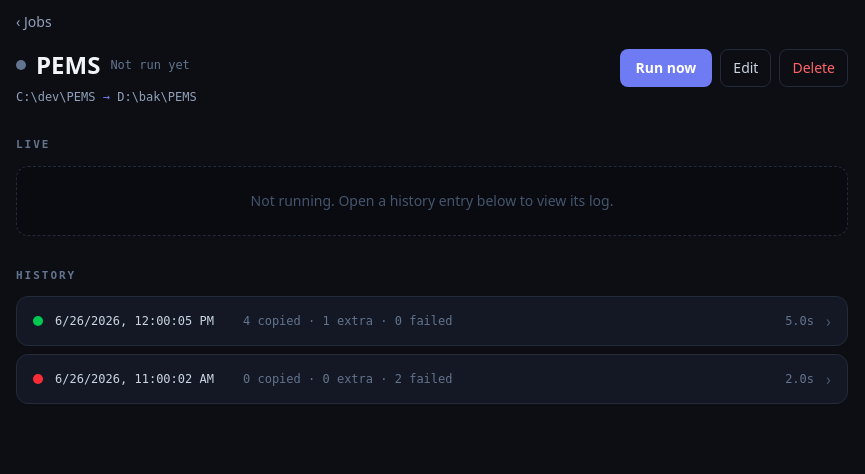
Test: JobDetails history › keeps only one log open at a time
Click the text "4 copied · 1 extra · 0 failed" at (348, 321), box [243, 314, 452, 328]
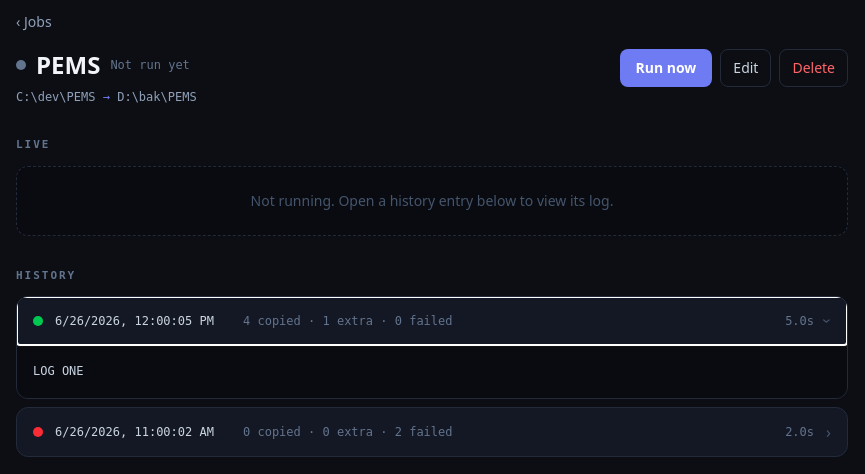
Now the text "LOG ONE" is shown, box [17, 345, 847, 398]
Click the text "0 copied · 0 extra · 2 failed" at (348, 432), box [243, 424, 452, 438]
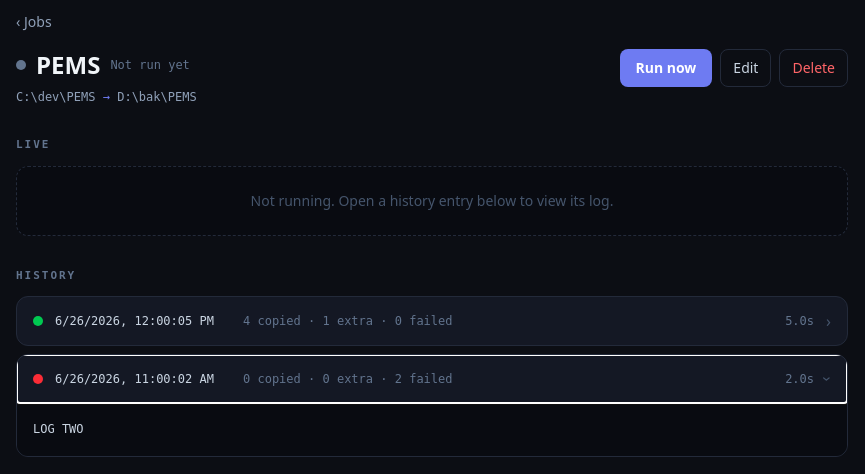
Now the text "LOG TWO" is shown, box [17, 403, 847, 456]
Now the text "LOG ONE" is gone
